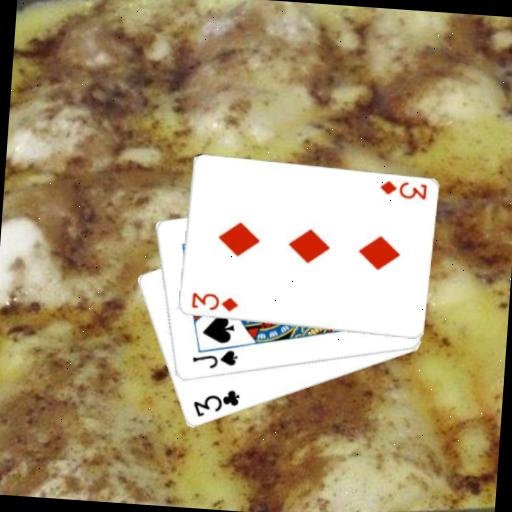3C: (189, 385, 242, 422)
3D: (187, 289, 240, 315), (376, 177, 428, 203)
JS: (188, 345, 240, 372)
